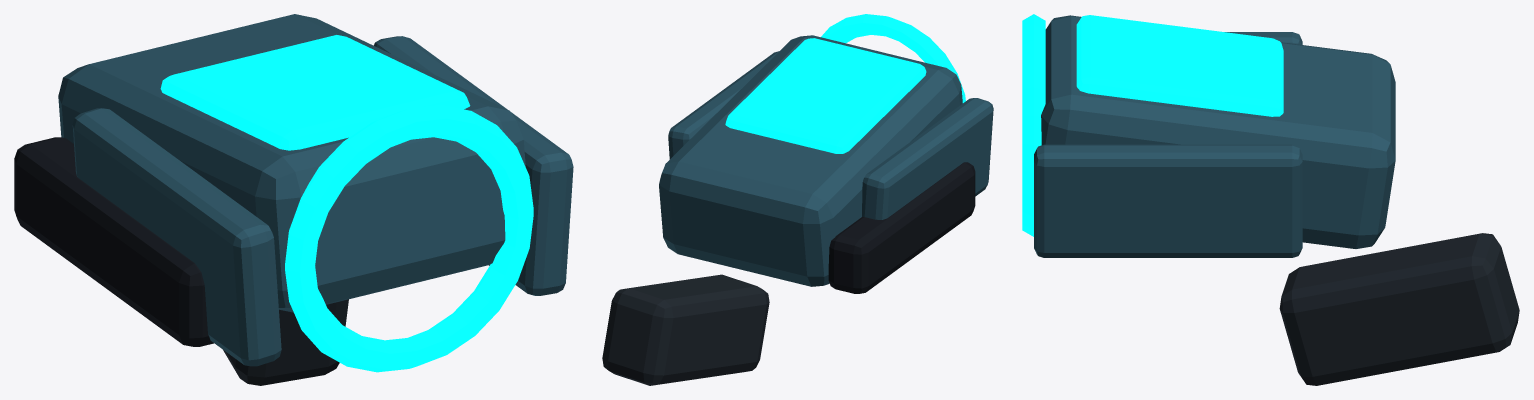
Rendered from SurfaceScanner.fbx.
The picture shows the model from 3 angles, left to right: view 1: azimuth 30°, elevation 25°; view 2: azimuth 150°, elevation 25°; view 3: azimuth 270°, elevation 25°; orthographic projection. The views are drawn at different scales.
Parts seen in each view (by area): view 1: ScannerBody, ScannerEmitterRing, ScannerSideFin_-1, ScannerScreen, ScannerSupportRail, ScannerSideFin_1, ScannerHandle; view 2: ScannerBody, ScannerHandle, ScannerScreen, ScannerSupportRail, ScannerSideFin_-1, ScannerEmitterRing, ScannerSideFin_1; view 3: ScannerBody, ScannerSideFin_1, ScannerHandle, ScannerScreen, ScannerEmitterRing, ScannerSideFin_-1.
Boxes of the visible parts, x1,y1,x2,y2 form: ScannerBody: (58, 14, 525, 312); ScannerEmitterRing: (285, 105, 533, 372); ScannerSideFin_-1: (72, 108, 281, 366); ScannerScreen: (160, 35, 470, 150); ScannerSupportRail: (14, 137, 213, 346); ScannerSideFin_1: (374, 36, 573, 295); ScannerHandle: (223, 299, 348, 385); ScannerBody: (659, 35, 962, 286); ScannerHandle: (602, 274, 769, 385); ScannerScreen: (725, 38, 926, 153); ScannerSupportRail: (828, 162, 975, 293); ScannerSideFin_-1: (862, 98, 993, 219); ScannerEmitterRing: (821, 14, 965, 102); ScannerSideFin_1: (668, 51, 779, 159); ScannerBody: (1041, 15, 1395, 248); ScannerSideFin_1: (1034, 144, 1302, 257); ScannerHandle: (1279, 233, 1519, 385); ScannerScreen: (1076, 15, 1283, 116); ScannerEmitterRing: (1022, 14, 1045, 236); ScannerSideFin_-1: (1225, 32, 1302, 44).
Size of the model in its own units: 0.2123 by 0.2411 by 0.3332.
